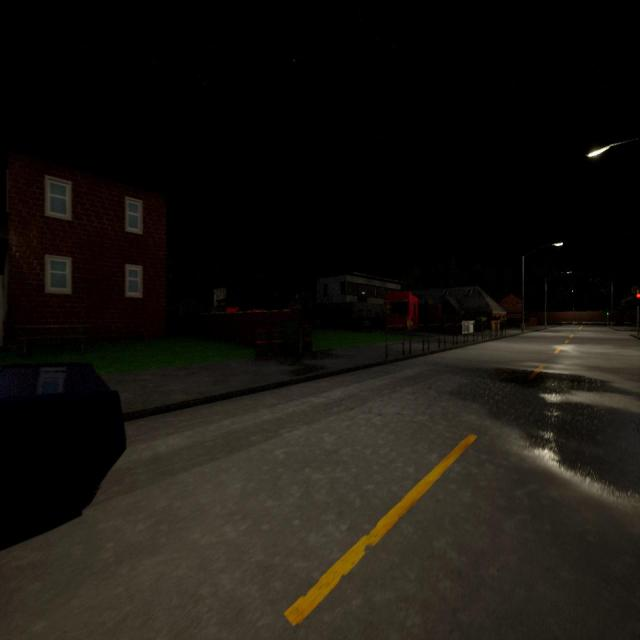Vehicle: (1, 359, 126, 551)
traffic_light: (636, 292, 640, 306), (606, 311, 608, 316)
